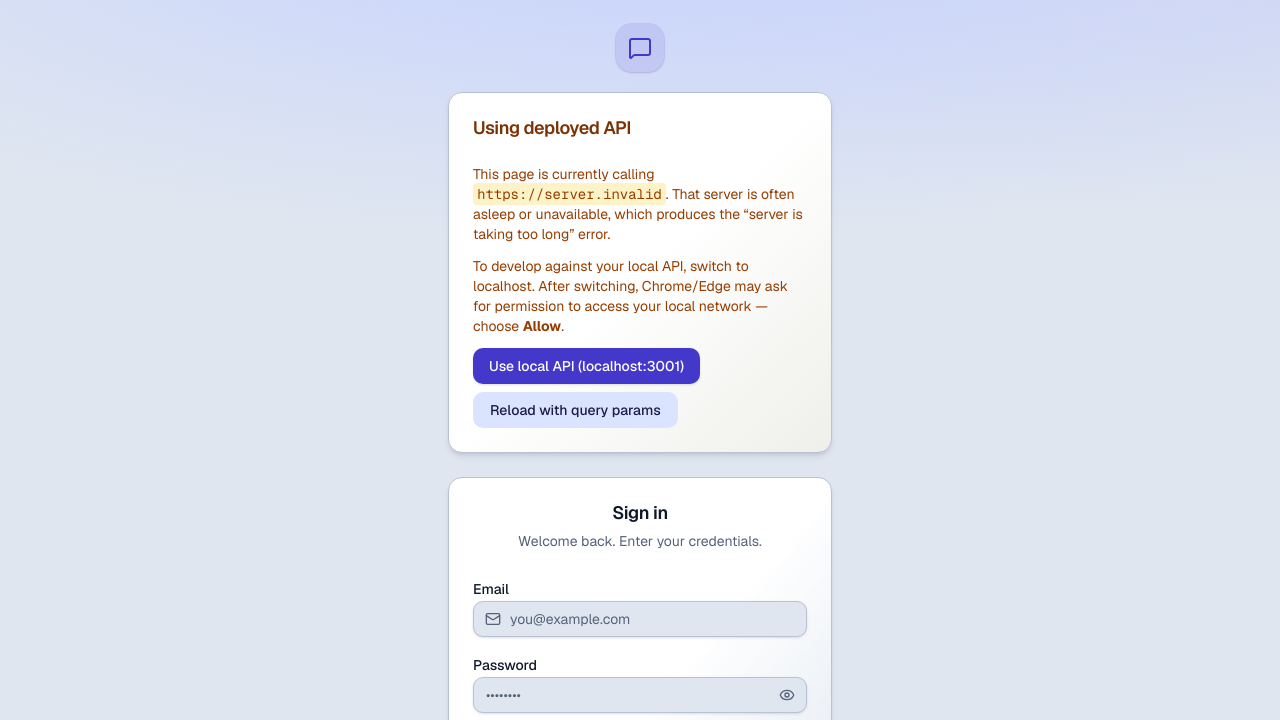
Test: LoginPage › shows backend error and does not redirect
The image size is (1280, 720).
Type "a@b.com" into the field labelled "Email".
click(640, 619); type("a@b.com")  # box [473, 601, 807, 637]
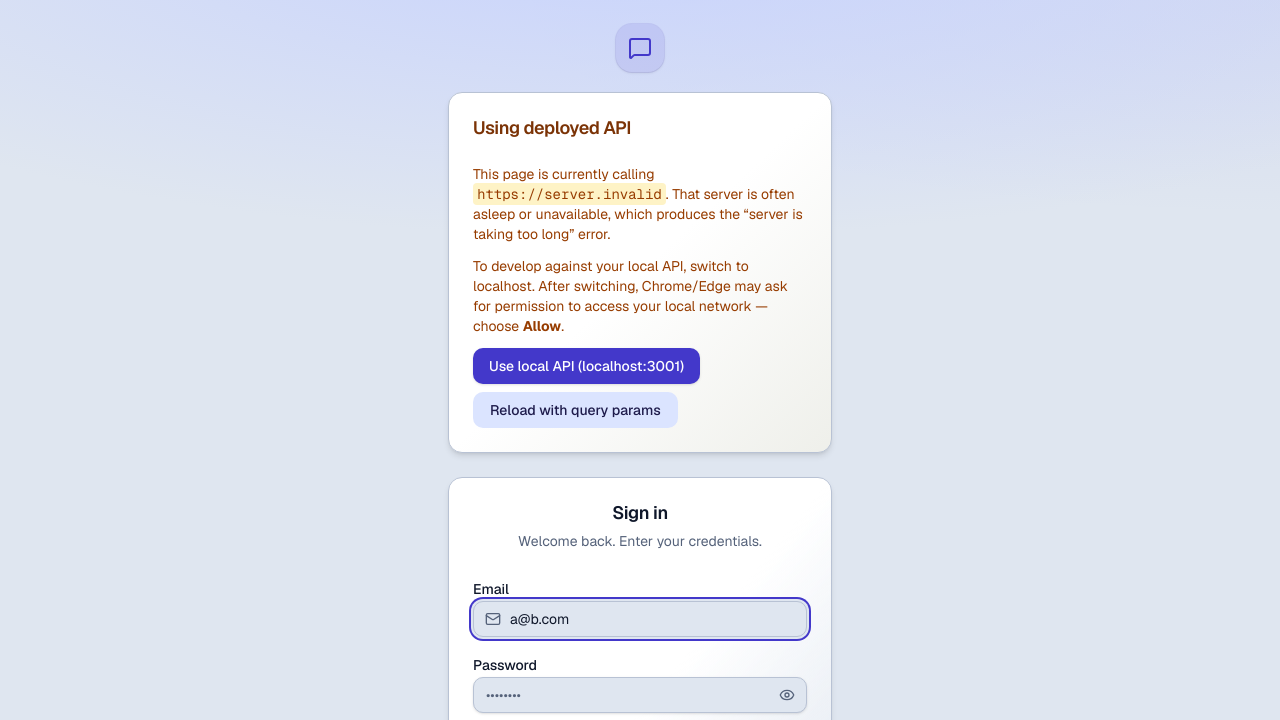
Type "wrong" into the password field labelled "Password".
click(640, 695); type("wrong")  # box [473, 677, 807, 713]
(page scrolled)
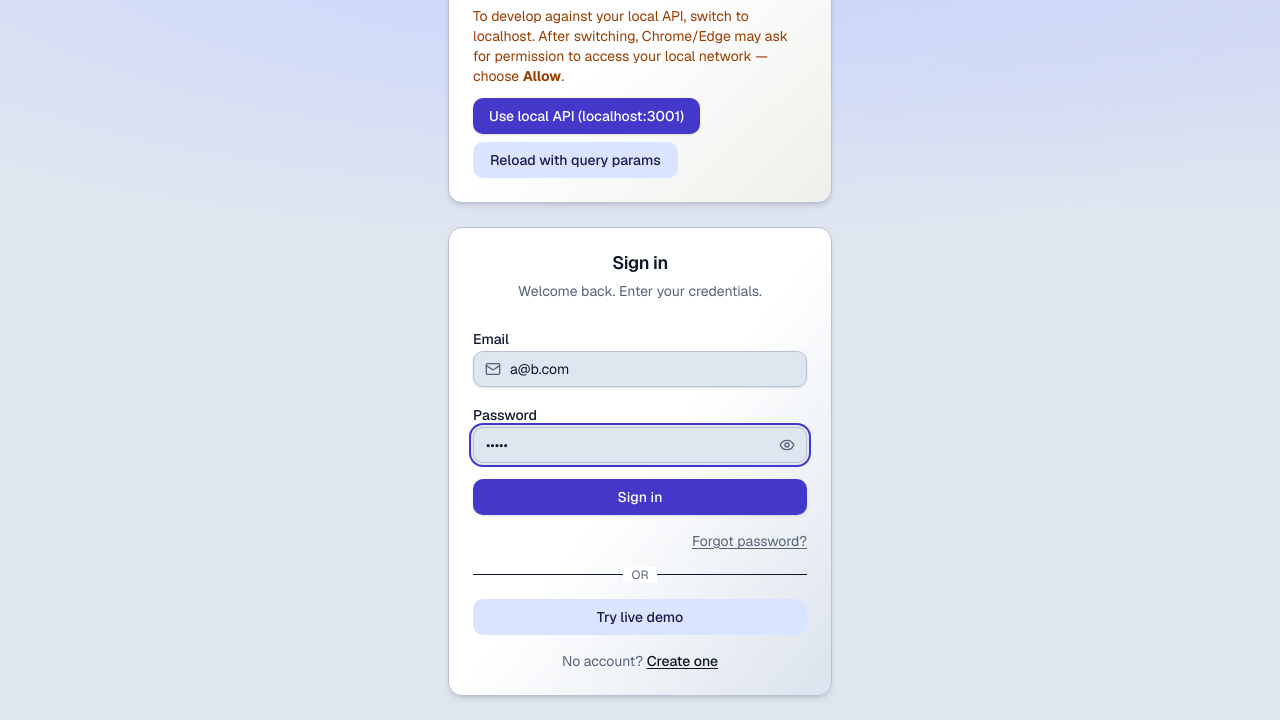
Click the button "Sign in".
click(640, 497)  # box [473, 479, 807, 515]
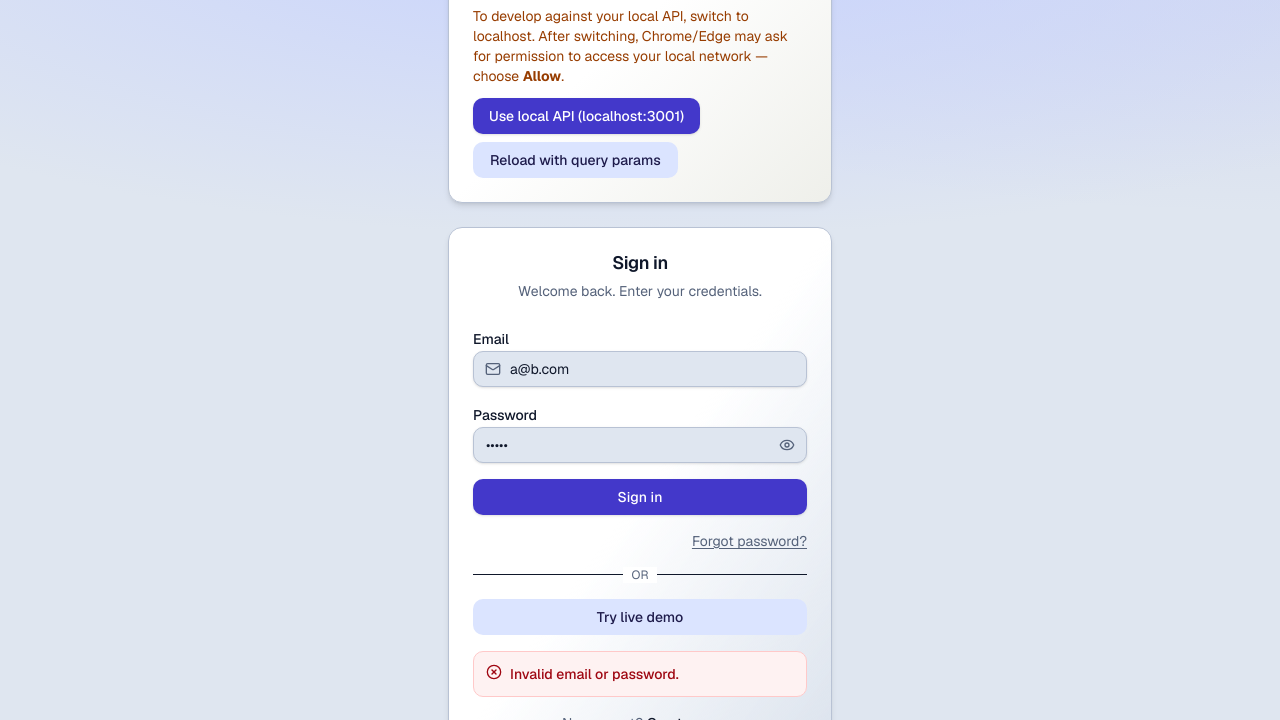
Check: the text "Invalid email or password." is shown, box [510, 665, 679, 683]
